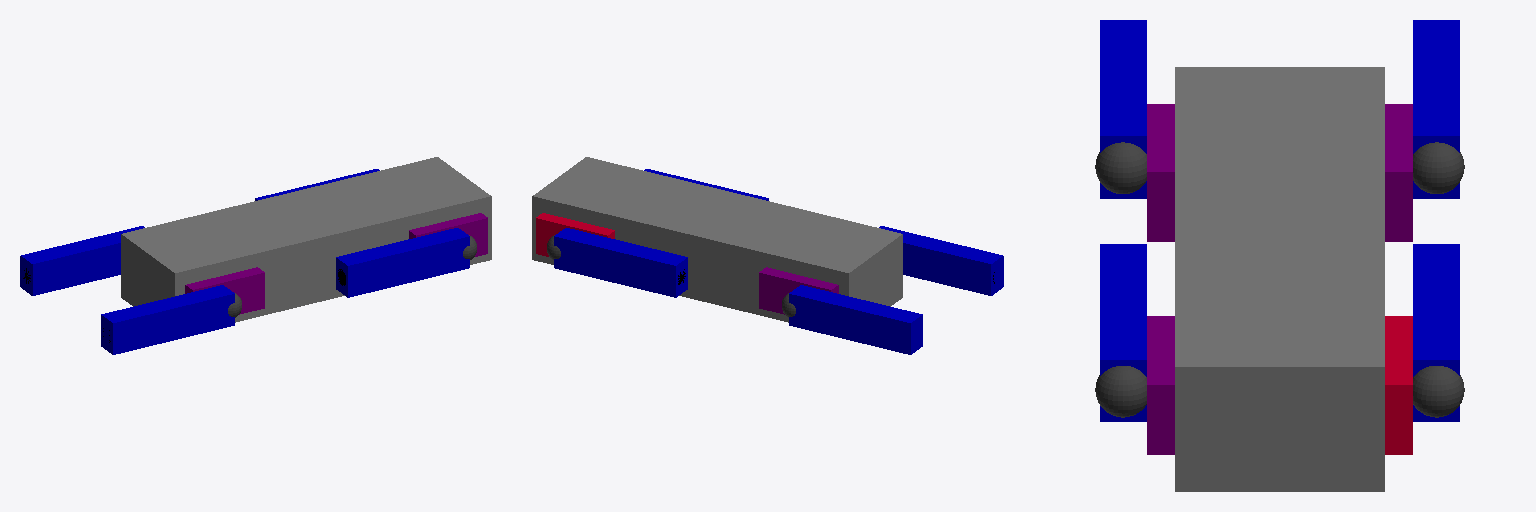
--- Render facts (derived) ---
The picture shows the robot from 3 angles, left to right: view 1: azimuth 30°, elevation 25°; view 2: azimuth 150°, elevation 25°; view 3: azimuth 270°, elevation 25°; orthographic projection.
Robot: ngr — 17 links, 16 joints (12 revolute, 4 fixed); root link body; default pose: every joint at zero.
Visible links, largest first — view 1: body, upper3, upper2, upper1, hip3, hip2; view 2: body, upper1, upper0, upper3, hip1, hip0; view 3: body, upper1, upper3, upper0, upper2, hip0, hip2, hip1, hip3, toe0, toe2, toe1 (+1 smaller).
Link boxes in pixels (left/top/right/bottom): body: left=121, top=157, right=491, bottom=322; upper3: left=101, top=285, right=234, bottom=354; upper2: left=336, top=228, right=469, bottom=297; upper1: left=20, top=226, right=144, bottom=295; hip3: left=185, top=267, right=264, bottom=314; hip2: left=409, top=213, right=487, bottom=256; body: left=532, top=157, right=902, bottom=322; upper1: left=789, top=285, right=922, bottom=354; upper0: left=554, top=228, right=687, bottom=297; upper3: left=879, top=226, right=1003, bottom=295; hip1: left=759, top=267, right=838, bottom=314; hip0: left=536, top=213, right=614, bottom=256; body: left=1175, top=67, right=1384, bottom=491; upper1: left=1413, top=20, right=1459, bottom=198; upper3: left=1100, top=20, right=1146, bottom=198; upper0: left=1413, top=244, right=1459, bottom=421; upper2: left=1100, top=244, right=1146, bottom=421; hip0: left=1385, top=316, right=1412, bottom=454; hip2: left=1147, top=316, right=1174, bottom=454; hip1: left=1385, top=104, right=1412, bottom=241; hip3: left=1147, top=104, right=1174, bottom=241; toe0: left=1413, top=366, right=1464, bottom=417; toe2: left=1095, top=366, right=1146, bottom=417; toe1: left=1413, top=142, right=1464, bottom=193.
Size in the robot's own frame: 1.04 by 0.431 by 0.16 metres.
Geometry: primitives only (box / cylinder / sphere), no mesh files.

The robot description file, URDF, robot "ngr":
<?xml version="1.0" ?>
<!-- =================================================================================== -->
<!-- |    This document was autogenerated by xacro from vision60.urdf.xacro            | -->
<!-- |    EDITING THIS FILE BY HAND IS NOT RECOMMENDED                                 | -->
<!-- =================================================================================== -->
<!--
 * Copyright (C) Ghost Robotics - All Rights Reserved
 * Unauthorized copying of this file, via any medium is strictly prohibited
 * Proprietary and confidential
 * Written by Avik De <[email redacted]> and Tom Jacobs <[email redacted]>
-->
<robot name="ngr" xmlns:xacro="http://www.ros.org/wiki/xacro">
  <!-- Define parameters -->
  <!-- Change here v3 or v4 -->
  <!-- body geometric properties xacro:if does not appear to work with this version of xacro.py -->
  <!-- body dynamic properties -->
  <!-- Simulation-specific dynamics properties (mostly guessing) -->
  <!-- Joint limits -->
  <!-- Define materials -->
  <material name="gray">
    <color rgba="0.5 0.5 0.5 1.0"/>
  </material>
  <material name="darkgray">
    <color rgba="0.3 0.3 0.3 1.0"/>
  </material>
  <material name="blue">
    <color rgba="0 0 0.8 1"/>
  </material>
  <material name="black">
    <color rgba="0 0 0 1"/>
  </material>
  <material name="purple">
    <color rgba="0.5 0.0 0.5 1.0"/>
  </material>
  <material name="red">
    <color rgba="0.8 0.0 0.2 1.0"/>
  </material>
  <!-- Body -->
  <link name="body">
    <visual>
      <origin rpy="0 0 0" xyz="0 0 0"/>
      <geometry>
        <box size="0.83 0.245 0.16"/>
      </geometry>
      <material name="gray"/>
    </visual>
    <inertial>
      <mass value="17.9"/>
      <inertia ixx="0.0986" ixy="0" ixz="0" iyy="0.8105" iyz="0" izz="0.8369"/>
    </inertial>
    <!-- Just copy geometry for collision -->
    <collision>
      <origin rpy="0 0 0" xyz="0 0 0"/>
      <geometry>
        <box size="0.83 0.245 0.16"/>
      </geometry>
    </collision>
  </link>
  <gazebo reference="body">
    <material>Gazebo/BlackTransparent</material>
  </gazebo>
  <gazebo reference="body">
    <gravity>true</gravity>
    <sensor name="imu_sensor" type="imu">
      <always_on>true</always_on>
      <update_rate>100</update_rate>
      <visualize>true</visualize>
      <topic>__default_topic_</topic>
      <plugin filename="libgazebo_ros_imu_sensor.so" name="imu_plugin">
        <topicName>imu</topicName>
        <bodyName>body</bodyName>
        <updateRateHZ>100.0</updateRateHZ>
        <gaussianNoise>0.0</gaussianNoise>
        <xyzOffset>0 0 0</xyzOffset>
        <rpyOffset>0 0 0</rpyOffset>
        <frameName>body</frameName>
        <initialOrientationAsReference>false</initialOrientationAsReference>
      </plugin>
      <pose>0 0 0 0 0 0</pose>
    </sensor>
  </gazebo>
  <!-- Define our leg macro -->
  <!-- Our four legs -->
  <!-- Hip motor -->
  <link name="hip0">
    <visual>
      <origin rpy="1.5707963268 0 0" xyz="-0.015 -0.01 0"/>
      <geometry>
        <box size="0.19 0.09 0.14"/>
      </geometry>
      <material name="red"/>
    </visual>
    <collision>
      <origin rpy="1.5707963268 0 0" xyz="-0.015 -0.01 0"/>
      <geometry>
        <box size="0.19 0.09 0.14"/>
      </geometry>
    </collision>
    <inertial>
      <mass value="1.975"/>
      <inertia ixx="0.00891458" ixy="0" ixz="0" iyy="0.0100573" iyz="0" izz="0.01533698"/>
    </inertial>
  </link>
  <gazebo reference="hip0">
    <material>Gazebo/Purple</material>
  </gazebo>
  <!-- Abduction joint. Joint names are: 8 9 10 11 -->
  <joint name="8" type="revolute">
    <parent link="body"/>
    <child link="hip0"/>
    <axis xyz="1 0 0"/>
    <origin xyz="0.308 0.0955 0"/>
    <limit effort="375" lower="-0.53" upper="0.53" velocity="8.6"/>
    <dynamics damping="0.0" friction="0.0"/>
  </joint>
  <!-- Transmission elements required for Gazebo -->
  <transmission name="transmission_8">
    <type>transmission_interface/SimpleTransmission</type>
    <joint name="8">
      <hardwareInterface>hardware_interface/EffortJointInterface</hardwareInterface>
    </joint>
    <actuator name="motor_8">
      <hardwareInterface>EffortJointInterface</hardwareInterface>
      <mechanicalReduction>1</mechanicalReduction>
    </actuator>
  </transmission>
  <!-- Upper leg -->
  <link name="upper0">
    <visual>
      <origin rpy="0 0 0" xyz="-0.16 0.0 0"/>
      <geometry>
        <box size="0.32 0.055 0.08"/>
      </geometry>
      <material name="blue"/>
    </visual>
    <collision>
      <origin rpy="0 0 0" xyz="-0.16 0.0 0"/>
      <geometry>
        <box size="0.32 0.055 0.08"/>
      </geometry>
    </collision>
    <inertial>
      <mass value="2.525"/>
      <inertia ixx="0.0003125" ixy="0" ixz="0" iyy="0.0040625" iyz="0" izz="0.0040625"/>
    </inertial>
  </link>
  <gazebo reference="upper0">
    <material>Gazebo/Blue</material>
  </gazebo>
  <!-- Hip joint. (Motor to upper leg). Joint names are: 0 2 4 6 -->
  <joint name="0" type="revolute">
    <parent link="hip0"/>
    <child link="upper0"/>
    <axis xyz="0 -1 0"/>
    <origin xyz="0 0.0875 0"/>
    <!--  rpy="0 -0.3 0" -->
    <limit effort="87.5" lower="-6.28318530718" upper="6.28318530718" velocity="30"/>
    <dynamics damping="0.0" friction="0.0"/>
  </joint>
  <!-- Transmission elements required for Gazebo -->
  <transmission name="transmission_0">
    <type>transmission_interface/SimpleTransmission</type>
    <joint name="0">
      <hardwareInterface>hardware_interface/EffortJointInterface</hardwareInterface>
    </joint>
    <actuator name="motor_0">
      <hardwareInterface>EffortJointInterface</hardwareInterface>
      <mechanicalReduction>1</mechanicalReduction>
    </actuator>
  </transmission>
  <!-- Lower leg -->
  <link name="lower0">
    <visual>
      <origin rpy="0 1.5707963268 0" xyz="0.1588 0 0"/>
      <geometry>
        <cylinder length="0.3176" radius="0.02"/>
      </geometry>
      <material name="black"/>
    </visual>
    <collision>
      <origin rpy="0 1.5707963268 0" xyz="0.1588 0 0"/>
      <geometry>
        <cylinder length="0.3176" radius="0.02"/>
      </geometry>
    </collision>
    <inertial>
      <mass value="0.375"/>
      <inertia ixx="0.00131075" ixy="0" ixz="0" iyy="0.00131075" iyz="0" izz="0.0001"/>
    </inertial>
  </link>
  <gazebo reference="lower0">
    <material>Gazebo/Black</material>
  </gazebo>
  <!-- Knee joint. Joint names are: 1 3 5 7 -->
  <joint name="1" type="revolute">
    <parent link="upper0"/>
    <child link="lower0"/>
    <axis xyz="0 1 0"/>
    <origin xyz="-0.32 0 0"/>
    <!--rpy="0 0.5 0"-->
    <limit effort="87.5" lower="0" upper="3.14159265359" velocity="30"/>
    <dynamics damping="0.0" friction="0.0"/>
  </joint>
  <!-- Transmission elements required for Gazebo -->
  <transmission name="transmission_1">
    <type>transmission_interface/SimpleTransmission</type>
    <joint name="1">
      <hardwareInterface>hardware_interface/EffortJointInterface</hardwareInterface>
    </joint>
    <actuator name="motor_1">
      <hardwareInterface>EffortJointInterface</hardwareInterface>
      <mechanicalReduction>1</mechanicalReduction>
    </actuator>
  </transmission>
  <!-- Toe -->
  <link name="toe0">
    <contact>
      <friction_anchor/>
      <stiffness value="30000.0"/>
      <damping value="1000.0"/>
      <spinning_friction value="0.3"/>
      <lateral_friction value="3.0"/>
    </contact>
    <visual>
      <origin rpy="0 0 0" xyz="0 0 0"/>
      <geometry>
        <sphere radius="0.0325"/>
      </geometry>
      <material name="darkgray"/>
    </visual>
    <collision>
      <origin rpy="0 0 0" xyz="0 0 0"/>
      <geometry>
        <sphere radius="0.0325"/>
      </geometry>
    </collision>
    <inertial>
      <mass value="0.15"/>
      <inertia ixx="0.000025" ixy="0" ixz="0" iyy="0.000025" iyz="0" izz="0.000025"/>
    </inertial>
  </link>
  <gazebo reference="toe0">
    <material>Gazebo/DarkGray</material>
    <collision>
      <surface>
        <bounce>
          <restitution_coefficient>0</restitution_coefficient>
          <threshold>1e+06</threshold>
        </bounce>
        <friction>
          <torsional>
            <coefficient>0.3</coefficient>
          </torsional>
          <ode>
            <mu>20.0</mu>
            <mu2>3.0</mu2>
          </ode>
          <bullet>
            <rolling_friction>0.3</rolling_friction>
            <friction2>3.0</friction2>
          </bullet>
        </friction>
        <contact>
          <bullet>
            <kp>30000.0</kp>
            <kd>1000.0</kd>
          </bullet>
          <ode>
            <kp>30000.0</kp>
            <kd>1000.0</kd>
          </ode>
        </contact>
      </surface>
    </collision>
  </gazebo>
  <joint name="jtoe0" type="fixed">
    <parent link="lower0"/>
    <child link="toe0"/>
    <origin xyz="0.3176 0 -0.0"/>
    <dynamics damping="0.0" friction="0.0"/>
  </joint>
  <!-- Hip motor -->
  <link name="hip1">
    <visual>
      <origin rpy="1.5707963268 0 0" xyz="0.015 -0.01 0"/>
      <geometry>
        <box size="0.19 0.09 0.14"/>
      </geometry>
      <material name="purple"/>
    </visual>
    <collision>
      <origin rpy="1.5707963268 0 0" xyz="0.015 -0.01 0"/>
      <geometry>
        <box size="0.19 0.09 0.14"/>
      </geometry>
    </collision>
    <inertial>
      <mass value="1.975"/>
      <inertia ixx="0.00891458" ixy="0" ixz="0" iyy="0.0100573" iyz="0" izz="0.01533698"/>
    </inertial>
  </link>
  <gazebo reference="hip1">
    <material>Gazebo/Purple</material>
  </gazebo>
  <!-- Abduction joint. Joint names are: 8 9 10 11 -->
  <joint name="9" type="revolute">
    <parent link="body"/>
    <child link="hip1"/>
    <axis xyz="1 0 0"/>
    <origin xyz="-0.308 0.0955 0"/>
    <limit effort="375" lower="-0.53" upper="0.53" velocity="8.6"/>
    <dynamics damping="0.0" friction="0.0"/>
  </joint>
  <!-- Transmission elements required for Gazebo -->
  <transmission name="transmission_9">
    <type>transmission_interface/SimpleTransmission</type>
    <joint name="9">
      <hardwareInterface>hardware_interface/EffortJointInterface</hardwareInterface>
    </joint>
    <actuator name="motor_9">
      <hardwareInterface>EffortJointInterface</hardwareInterface>
      <mechanicalReduction>1</mechanicalReduction>
    </actuator>
  </transmission>
  <!-- Upper leg -->
  <link name="upper1">
    <visual>
      <origin rpy="0 0 0" xyz="-0.16 0.0 0"/>
      <geometry>
        <box size="0.32 0.055 0.08"/>
      </geometry>
      <material name="blue"/>
    </visual>
    <collision>
      <origin rpy="0 0 0" xyz="-0.16 0.0 0"/>
      <geometry>
        <box size="0.32 0.055 0.08"/>
      </geometry>
    </collision>
    <inertial>
      <mass value="2.525"/>
      <inertia ixx="0.0003125" ixy="0" ixz="0" iyy="0.0040625" iyz="0" izz="0.0040625"/>
    </inertial>
  </link>
  <gazebo reference="upper1">
    <material>Gazebo/Blue</material>
  </gazebo>
  <!-- Hip joint. (Motor to upper leg). Joint names are: 0 2 4 6 -->
  <joint name="2" type="revolute">
    <parent link="hip1"/>
    <child link="upper1"/>
    <axis xyz="0 -1 0"/>
    <origin xyz="0 0.0875 0"/>
    <!--  rpy="0 -0.3 0" -->
    <limit effort="87.5" lower="-6.28318530718" upper="6.28318530718" velocity="30"/>
    <dynamics damping="0.0" friction="0.0"/>
  </joint>
  <!-- Transmission elements required for Gazebo -->
  <transmission name="transmission_2">
    <type>transmission_interface/SimpleTransmission</type>
    <joint name="2">
      <hardwareInterface>hardware_interface/EffortJointInterface</hardwareInterface>
    </joint>
    <actuator name="motor_2">
      <hardwareInterface>EffortJointInterface</hardwareInterface>
      <mechanicalReduction>1</mechanicalReduction>
    </actuator>
  </transmission>
  <!-- Lower leg -->
  <link name="lower1">
    <visual>
      <origin rpy="0 1.5707963268 0" xyz="0.1588 0 0"/>
      <geometry>
        <cylinder length="0.3176" radius="0.02"/>
      </geometry>
      <material name="black"/>
    </visual>
    <collision>
      <origin rpy="0 1.5707963268 0" xyz="0.1588 0 0"/>
      <geometry>
        <cylinder length="0.3176" radius="0.02"/>
      </geometry>
    </collision>
    <inertial>
      <mass value="0.375"/>
      <inertia ixx="0.00131075" ixy="0" ixz="0" iyy="0.00131075" iyz="0" izz="0.0001"/>
    </inertial>
  </link>
  <gazebo reference="lower1">
    <material>Gazebo/Black</material>
  </gazebo>
  <!-- Knee joint. Joint names are: 1 3 5 7 -->
  <joint name="3" type="revolute">
    <parent link="upper1"/>
    <child link="lower1"/>
    <axis xyz="0 1 0"/>
    <origin xyz="-0.32 0 0"/>
    <!--rpy="0 0.5 0"-->
    <limit effort="87.5" lower="0" upper="3.14159265359" velocity="30"/>
    <dynamics damping="0.0" friction="0.0"/>
  </joint>
  <!-- Transmission elements required for Gazebo -->
  <transmission name="transmission_3">
    <type>transmission_interface/SimpleTransmission</type>
    <joint name="3">
      <hardwareInterface>hardware_interface/EffortJointInterface</hardwareInterface>
    </joint>
    <actuator name="motor_3">
      <hardwareInterface>EffortJointInterface</hardwareInterface>
      <mechanicalReduction>1</mechanicalReduction>
    </actuator>
  </transmission>
  <!-- Toe -->
  <link name="toe1">
    <contact>
      <friction_anchor/>
      <stiffness value="30000.0"/>
      <damping value="1000.0"/>
      <spinning_friction value="0.3"/>
      <lateral_friction value="3.0"/>
    </contact>
    <visual>
      <origin rpy="0 0 0" xyz="0 0 0"/>
      <geometry>
        <sphere radius="0.0325"/>
      </geometry>
      <material name="darkgray"/>
    </visual>
    <collision>
      <origin rpy="0 0 0" xyz="0 0 0"/>
      <geometry>
        <sphere radius="0.0325"/>
      </geometry>
    </collision>
    <inertial>
      <mass value="0.15"/>
      <inertia ixx="0.000025" ixy="0" ixz="0" iyy="0.000025" iyz="0" izz="0.000025"/>
    </inertial>
  </link>
  <gazebo reference="toe1">
    <material>Gazebo/DarkGray</material>
    <collision>
      <surface>
        <bounce>
          <restitution_coefficient>0</restitution_coefficient>
          <threshold>1e+06</threshold>
        </bounce>
        <friction>
          <torsional>
            <coefficient>0.3</coefficient>
          </torsional>
          <ode>
            <mu>20.0</mu>
            <mu2>3.0</mu2>
          </ode>
          <bullet>
            <rolling_friction>0.3</rolling_friction>
            <friction2>3.0</friction2>
          </bullet>
        </friction>
        <contact>
          <bullet>
            <kp>30000.0</kp>
            <kd>1000.0</kd>
          </bullet>
          <ode>
            <kp>30000.0</kp>
            <kd>1000.0</kd>
          </ode>
        </contact>
      </surface>
    </collision>
  </gazebo>
  <joint name="jtoe1" type="fixed">
    <parent link="lower1"/>
    <child link="toe1"/>
    <origin xyz="0.3176 0 -0.0"/>
    <dynamics damping="0.0" friction="0.0"/>
  </joint>
  <!-- Hip motor -->
  <link name="hip2">
    <visual>
      <origin rpy="1.5707963268 0 0" xyz="-0.015 0.01 0"/>
      <geometry>
        <box size="0.19 0.09 0.14"/>
      </geometry>
      <material name="purple"/>
    </visual>
    <collision>
      <origin rpy="1.5707963268 0 0" xyz="-0.015 0.01 0"/>
      <geometry>
        <box size="0.19 0.09 0.14"/>
      </geometry>
    </collision>
    <inertial>
      <mass value="1.975"/>
      <inertia ixx="0.00891458" ixy="0" ixz="0" iyy="0.0100573" iyz="0" izz="0.01533698"/>
    </inertial>
  </link>
  <gazebo reference="hip2">
    <material>Gazebo/Purple</material>
  </gazebo>
  <!-- Abduction joint. Joint names are: 8 9 10 11 -->
  <joint name="10" type="revolute">
    <parent link="body"/>
    <child link="hip2"/>
    <axis xyz="1 0 0"/>
    <origin xyz="0.308 -0.0955 0"/>
    <limit effort="375" lower="-0.53" upper="0.53" velocity="8.6"/>
    <dynamics damping="0.0" friction="0.0"/>
  </joint>
  <!-- Transmission elements required for Gazebo -->
  <transmission name="transmission_10">
    <type>transmission_interface/SimpleTransmission</type>
    <joint name="10">
      <hardwareInterface>hardware_interface/EffortJointInterface</hardwareInterface>
    </joint>
    <actuator name="motor_10">
      <hardwareInterface>EffortJointInterface</hardwareInterface>
      <mechanicalReduction>1</mechanicalReduction>
    </actuator>
  </transmission>
  <!-- Upper leg -->
  <link name="upper2">
    <visual>
      <origin rpy="0 0 0" xyz="-0.16 -0.0 0"/>
      <geometry>
        <box size="0.32 0.055 0.08"/>
      </geometry>
      <material name="blue"/>
    </visual>
    <collision>
      <origin rpy="0 0 0" xyz="-0.16 -0.0 0"/>
      <geometry>
        <box size="0.32 0.055 0.08"/>
      </geometry>
    </collision>
    <inertial>
      <mass value="2.525"/>
      <inertia ixx="0.0003125" ixy="0" ixz="0" iyy="0.0040625" iyz="0" izz="0.0040625"/>
    </inertial>
  </link>
  <gazebo reference="upper2">
    <material>Gazebo/Blue</material>
  </gazebo>
  <!-- Hip joint. (Motor to upper leg). Joint names are: 0 2 4 6 -->
  <joint name="4" type="revolute">
    <parent link="hip2"/>
    <child link="upper2"/>
    <axis xyz="0 -1 0"/>
    <origin xyz="0 -0.0875 0"/>
    <!--  rpy="0 -0.3 0" -->
    <limit effort="87.5" lower="-6.28318530718" upper="6.28318530718" velocity="30"/>
    <dynamics damping="0.0" friction="0.0"/>
  </joint>
  <!-- Transmission elements required for Gazebo -->
  <transmission name="transmission_4">
    <type>transmission_interface/SimpleTransmission</type>
    <joint name="4">
      <hardwareInterface>hardware_interface/EffortJointInterface</hardwareInterface>
    </joint>
    <actuator name="motor_4">
      <hardwareInterface>EffortJointInterface</hardwareInterface>
      <mechanicalReduction>1</mechanicalReduction>
    </actuator>
  </transmission>
  <!-- Lower leg -->
  <link name="lower2">
    <visual>
      <origin rpy="0 1.5707963268 0" xyz="0.1588 0 0"/>
      <geometry>
        <cylinder length="0.3176" radius="0.02"/>
      </geometry>
      <material name="black"/>
    </visual>
    <collision>
      <origin rpy="0 1.5707963268 0" xyz="0.1588 0 0"/>
      <geometry>
        <cylinder length="0.3176" radius="0.02"/>
      </geometry>
    </collision>
    <inertial>
      <mass value="0.375"/>
      <inertia ixx="0.00131075" ixy="0" ixz="0" iyy="0.00131075" iyz="0" izz="0.0001"/>
    </inertial>
  </link>
  <gazebo reference="lower2">
    <material>Gazebo/Black</material>
  </gazebo>
  <!-- Knee joint. Joint names are: 1 3 5 7 -->
  <joint name="5" type="revolute">
    <parent link="upper2"/>
    <child link="lower2"/>
    <axis xyz="0 1 0"/>
    <origin xyz="-0.32 0 0"/>
    <!--rpy="0 0.5 0"-->
    <limit effort="87.5" lower="0" upper="3.14159265359" velocity="30"/>
    <dynamics damping="0.0" friction="0.0"/>
  </joint>
  <!-- Transmission elements required for Gazebo -->
  <transmission name="transmission_5">
    <type>transmission_interface/SimpleTransmission</type>
    <joint name="5">
      <hardwareInterface>hardware_interface/EffortJointInterface</hardwareInterface>
    </joint>
    <actuator name="motor_5">
      <hardwareInterface>EffortJointInterface</hardwareInterface>
      <mechanicalReduction>1</mechanicalReduction>
    </actuator>
  </transmission>
  <!-- Toe -->
  <link name="toe2">
    <contact>
      <friction_anchor/>
      <stiffness value="30000.0"/>
      <damping value="1000.0"/>
      <spinning_friction value="0.3"/>
      <lateral_friction value="3.0"/>
    </contact>
    <visual>
      <origin rpy="0 0 0" xyz="0 0 0"/>
      <geometry>
        <sphere radius="0.0325"/>
      </geometry>
      <material name="darkgray"/>
    </visual>
    <collision>
      <origin rpy="0 0 0" xyz="0 0 0"/>
      <geometry>
        <sphere radius="0.0325"/>
      </geometry>
    </collision>
    <inertial>
      <mass value="0.15"/>
      <inertia ixx="0.000025" ixy="0" ixz="0" iyy="0.000025" iyz="0" izz="0.000025"/>
    </inertial>
  </link>
  <gazebo reference="toe2">
    <material>Gazebo/DarkGray</material>
    <collision>
      <surface>
        <bounce>
          <restitution_coefficient>0</restitution_coefficient>
          <threshold>1e+06</threshold>
        </bounce>
        <friction>
          <torsional>
            <coefficient>0.3</coefficient>
          </torsional>
          <ode>
            <mu>20.0</mu>
            <mu2>3.0</mu2>
          </ode>
          <bullet>
            <rolling_friction>0.3</rolling_friction>
            <friction2>3.0</friction2>
          </bullet>
        </friction>
        <contact>
          <bullet>
            <kp>30000.0</kp>
            <kd>1000.0</kd>
          </bullet>
          <ode>
            <kp>30000.0</kp>
            <kd>1000.0</kd>
          </ode>
        </contact>
      </surface>
    </collision>
  </gazebo>
  <joint name="jtoe2" type="fixed">
    <parent link="lower2"/>
    <child link="toe2"/>
    <origin xyz="0.3176 0 -0.0"/>
    <dynamics damping="0.0" friction="0.0"/>
  </joint>
  <!-- Hip motor -->
  <link name="hip3">
    <visual>
      <origin rpy="1.5707963268 0 0" xyz="0.015 0.01 0"/>
      <geometry>
        <box size="0.19 0.09 0.14"/>
      </geometry>
      <material name="purple"/>
    </visual>
    <collision>
      <origin rpy="1.5707963268 0 0" xyz="0.015 0.01 0"/>
      <geometry>
        <box size="0.19 0.09 0.14"/>
      </geometry>
    </collision>
    <inertial>
      <mass value="1.975"/>
      <inertia ixx="0.00891458" ixy="0" ixz="0" iyy="0.0100573" iyz="0" izz="0.01533698"/>
    </inertial>
  </link>
  <gazebo reference="hip3">
    <material>Gazebo/Purple</material>
  </gazebo>
  <!-- Abduction joint. Joint names are: 8 9 10 11 -->
  <joint name="11" type="revolute">
    <parent link="body"/>
    <child link="hip3"/>
    <axis xyz="1 0 0"/>
    <origin xyz="-0.308 -0.0955 0"/>
    <limit effort="375" lower="-0.53" upper="0.53" velocity="8.6"/>
    <dynamics damping="0.0" friction="0.0"/>
  </joint>
  <!-- Transmission elements required for Gazebo -->
  <transmission name="transmission_11">
    <type>transmission_interface/SimpleTransmission</type>
    <joint name="11">
      <hardwareInterface>hardware_interface/EffortJointInterface</hardwareInterface>
    </joint>
    <actuator name="motor_11">
      <hardwareInterface>EffortJointInterface</hardwareInterface>
      <mechanicalReduction>1</mechanicalReduction>
    </actuator>
  </transmission>
  <!-- Upper leg -->
  <link name="upper3">
    <visual>
      <origin rpy="0 0 0" xyz="-0.16 -0.0 0"/>
      <geometry>
        <box size="0.32 0.055 0.08"/>
      </geometry>
      <material name="blue"/>
    </visual>
    <collision>
      <origin rpy="0 0 0" xyz="-0.16 -0.0 0"/>
      <geometry>
        <box size="0.32 0.055 0.08"/>
      </geometry>
    </collision>
    <inertial>
      <mass value="2.525"/>
      <inertia ixx="0.0003125" ixy="0" ixz="0" iyy="0.0040625" iyz="0" izz="0.0040625"/>
    </inertial>
  </link>
  <gazebo reference="upper3">
    <material>Gazebo/Blue</material>
  </gazebo>
  <!-- Hip joint. (Motor to upper leg). Joint names are: 0 2 4 6 -->
  <joint name="6" type="revolute">
    <parent link="hip3"/>
    <child link="upper3"/>
    <axis xyz="0 -1 0"/>
    <origin xyz="0 -0.0875 0"/>
    <!--  rpy="0 -0.3 0" -->
    <limit effort="87.5" lower="-6.28318530718" upper="6.28318530718" velocity="30"/>
    <dynamics damping="0.0" friction="0.0"/>
  </joint>
  <!-- Transmission elements required for Gazebo -->
  <transmission name="transmission_6">
    <type>transmission_interface/SimpleTransmission</type>
    <joint name="6">
      <hardwareInterface>hardware_interface/EffortJointInterface</hardwareInterface>
    </joint>
    <actuator name="motor_6">
      <hardwareInterface>EffortJointInterface</hardwareInterface>
      <mechanicalReduction>1</mechanicalReduction>
    </actuator>
  </transmission>
  <!-- Lower leg -->
  <link name="lower3">
    <visual>
      <origin rpy="0 1.5707963268 0" xyz="0.1588 0 0"/>
      <geometry>
        <cylinder length="0.3176" radius="0.02"/>
      </geometry>
      <material name="black"/>
    </visual>
    <collision>
      <origin rpy="0 1.5707963268 0" xyz="0.1588 0 0"/>
      <geometry>
        <cylinder length="0.3176" radius="0.02"/>
      </geometry>
    </collision>
    <inertial>
      <mass value="0.375"/>
      <inertia ixx="0.00131075" ixy="0" ixz="0" iyy="0.00131075" iyz="0" izz="0.0001"/>
    </inertial>
  </link>
  <gazebo reference="lower3">
    <material>Gazebo/Black</material>
  </gazebo>
  <!-- Knee joint. Joint names are: 1 3 5 7 -->
  <joint name="7" type="revolute">
    <parent link="upper3"/>
    <child link="lower3"/>
    <axis xyz="0 1 0"/>
    <origin xyz="-0.32 0 0"/>
    <!--rpy="0 0.5 0"-->
    <limit effort="87.5" lower="0" upper="3.14159265359" velocity="30"/>
    <dynamics damping="0.0" friction="0.0"/>
  </joint>
  <!-- Transmission elements required for Gazebo -->
  <transmission name="transmission_7">
    <type>transmission_interface/SimpleTransmission</type>
    <joint name="7">
      <hardwareInterface>hardware_interface/EffortJointInterface</hardwareInterface>
    </joint>
    <actuator name="motor_7">
      <hardwareInterface>EffortJointInterface</hardwareInterface>
      <mechanicalReduction>1</mechanicalReduction>
    </actuator>
  </transmission>
  <!-- Toe -->
  <link name="toe3">
    <contact>
      <friction_anchor/>
      <stiffness value="30000.0"/>
      <damping value="1000.0"/>
      <spinning_friction value="0.3"/>
      <lateral_friction value="3.0"/>
    </contact>
    <visual>
      <origin rpy="0 0 0" xyz="0 0 0"/>
      <geometry>
        <sphere radius="0.0325"/>
      </geometry>
      <material name="darkgray"/>
    </visual>
    <collision>
      <origin rpy="0 0 0" xyz="0 0 0"/>
      <geometry>
        <sphere radius="0.0325"/>
      </geometry>
    </collision>
    <inertial>
      <mass value="0.15"/>
      <inertia ixx="0.000025" ixy="0" ixz="0" iyy="0.000025" iyz="0" izz="0.000025"/>
    </inertial>
  </link>
  <gazebo reference="toe3">
    <material>Gazebo/DarkGray</material>
    <collision>
      <surface>
        <bounce>
          <restitution_coefficient>0</restitution_coefficient>
          <threshold>1e+06</threshold>
        </bounce>
        <friction>
          <torsional>
            <coefficient>0.3</coefficient>
          </torsional>
          <ode>
            <mu>20.0</mu>
            <mu2>3.0</mu2>
          </ode>
          <bullet>
            <rolling_friction>0.3</rolling_friction>
            <friction2>3.0</friction2>
          </bullet>
        </friction>
        <contact>
          <bullet>
            <kp>30000.0</kp>
            <kd>1000.0</kd>
          </bullet>
          <ode>
            <kp>30000.0</kp>
            <kd>1000.0</kd>
          </ode>
        </contact>
      </surface>
    </collision>
  </gazebo>
  <joint name="jtoe3" type="fixed">
    <parent link="lower3"/>
    <child link="toe3"/>
    <origin xyz="0.3176 0 -0.0"/>
    <dynamics damping="0.0" friction="0.0"/>
  </joint>
  <!-- Add ros_control plugin -->
  <gazebo>
    <plugin filename="libgazebo_ros_control.so" name="gazebo_ros_control">
      <robotNamespace>/vision60</robotNamespace>
    </plugin>
  </gazebo>
</robot>
